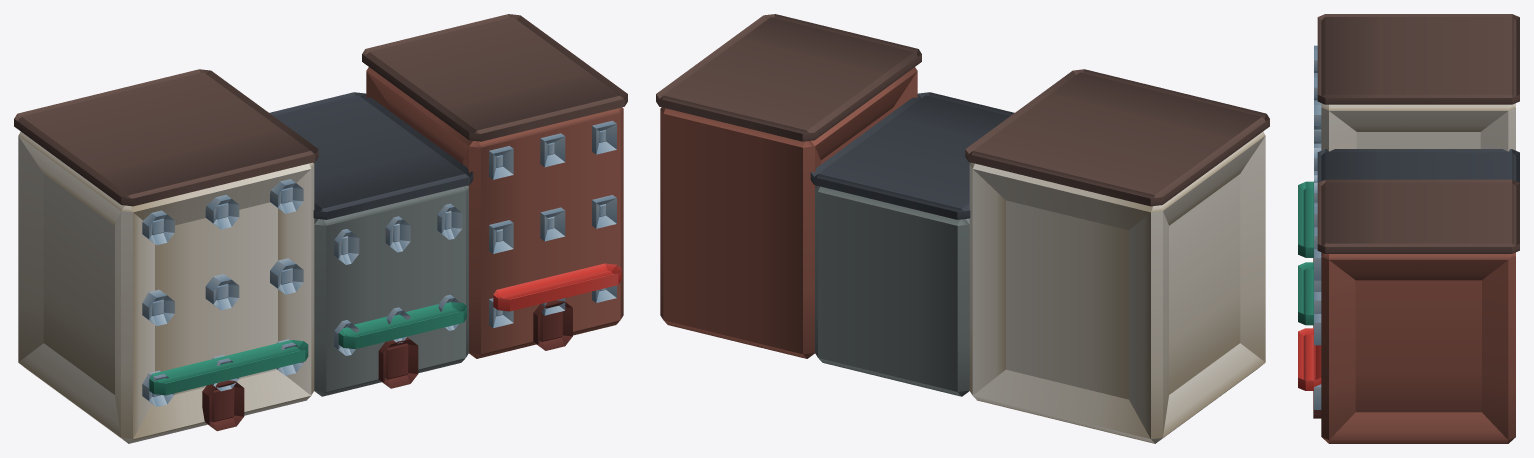
File: dt_corner_shop_row.fbx
The picture shows the model from 3 angles, left to right: view 1: azimuth 30°, elevation 25°; view 2: azimuth 150°, elevation 25°; view 3: azimuth 270°, elevation 25°; orthographic projection. The views are drawn at different scales.
Visible parts, largest first — view 1: dt_corner_shop_row; view 2: dt_corner_shop_row; view 3: dt_corner_shop_row.
Boxes of the visible parts, box(x1,y1,x2,y2) form: dt_corner_shop_row: box(14, 14, 627, 443); dt_corner_shop_row: box(656, 14, 1269, 443); dt_corner_shop_row: box(1298, 14, 1519, 443).
Bounding box in the file's own units: 2600 × 1231 × 1131.
